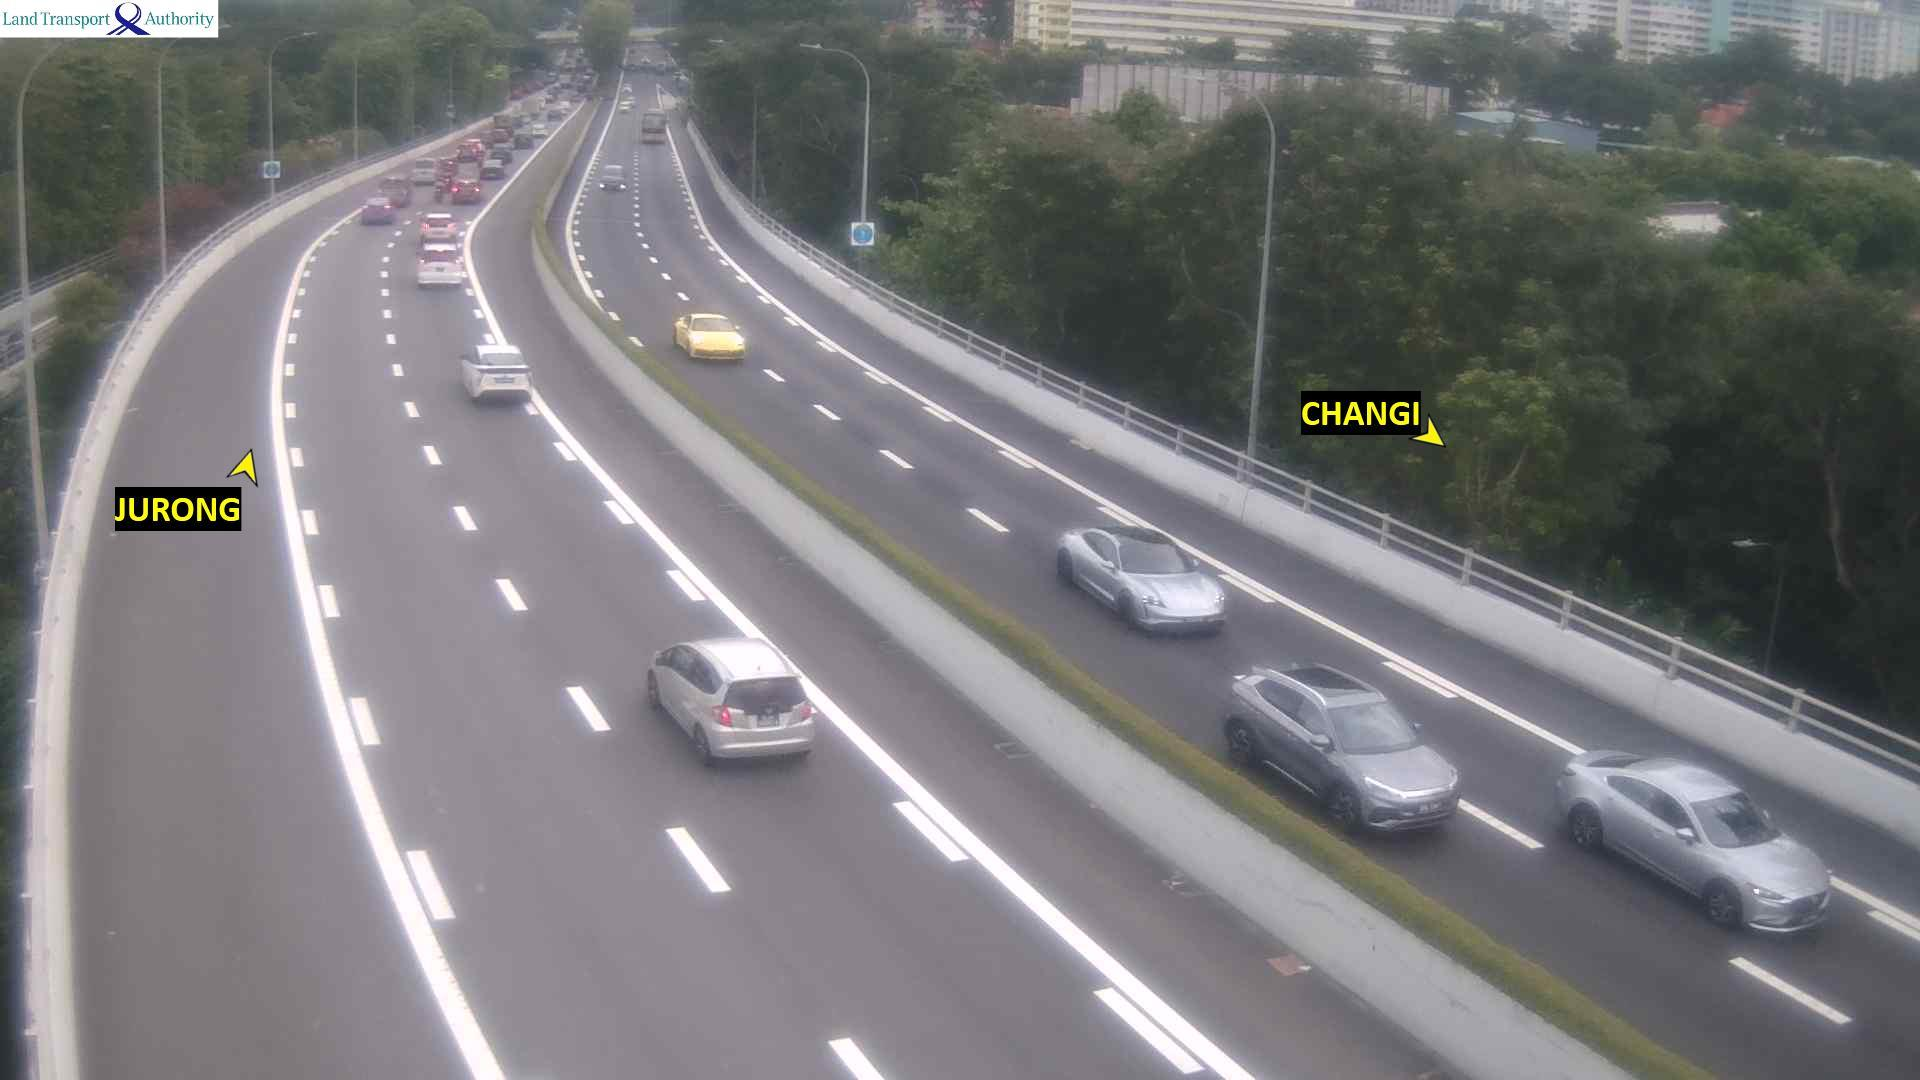bus: (639, 107, 666, 140)
cars: (1552, 747, 1832, 935), (1222, 660, 1461, 837), (644, 635, 816, 765), (1055, 525, 1227, 636), (458, 342, 532, 402), (673, 311, 745, 360), (415, 257, 464, 287), (419, 230, 461, 259), (417, 209, 456, 239), (431, 155, 456, 199), (359, 193, 394, 224), (379, 174, 411, 206), (448, 173, 481, 202), (455, 136, 484, 162), (599, 162, 625, 190), (411, 156, 435, 184), (491, 110, 522, 130), (479, 157, 506, 179), (515, 95, 541, 115), (491, 143, 513, 166), (617, 84, 634, 111), (512, 130, 534, 147), (486, 125, 505, 144), (546, 109, 565, 126), (542, 91, 555, 110), (564, 91, 584, 103), (530, 125, 549, 137)
motorcycle: (433, 178, 445, 204)
